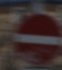No entry: (5, 7, 57, 64)
